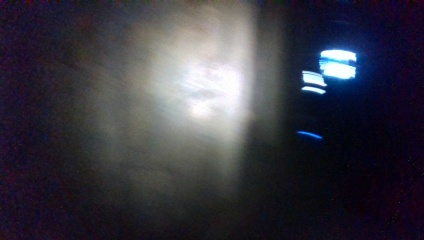manikin: (296, 54, 324, 111)
